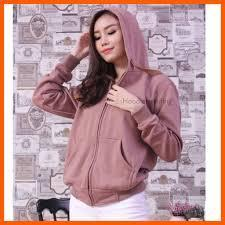sweater: (35, 6, 182, 201)
